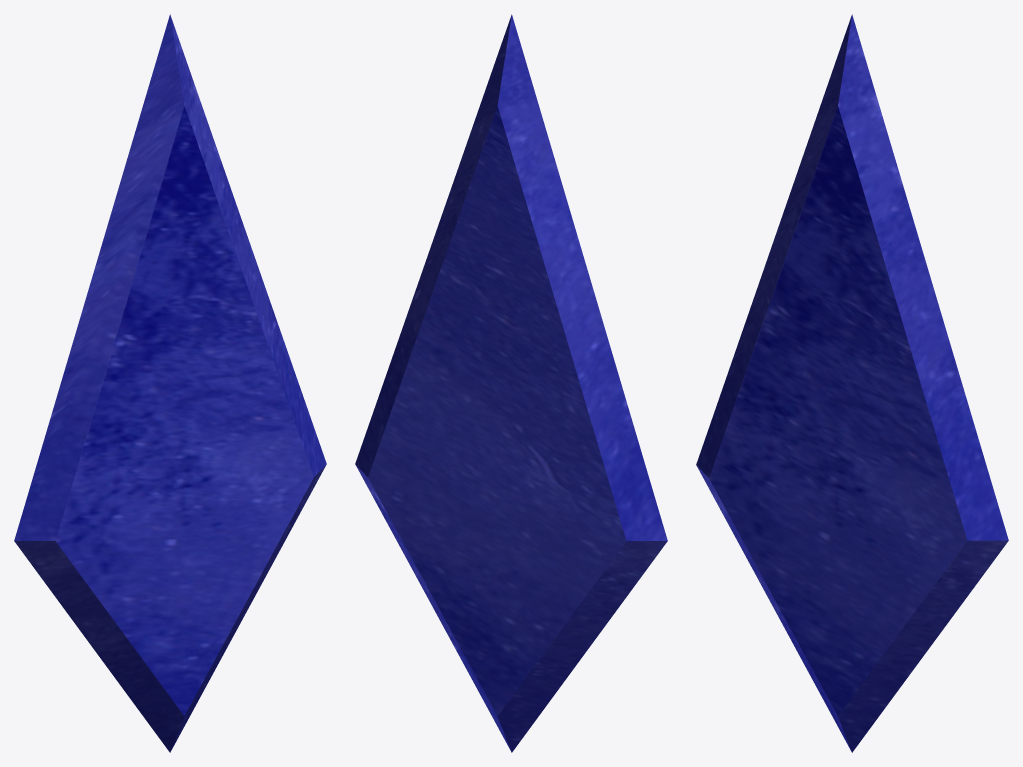
The model's file is Marker.dae.
3 views of the same model, side by side, from view 1: azimuth 30°, elevation 25°; view 2: azimuth 150°, elevation 25°; view 3: azimuth 330°, elevation 25° (orthographic).
Visible parts, largest first — view 1: blueprintIconFinal_RoadKillOut; view 2: blueprintIconFinal_RoadKillOut; view 3: blueprintIconFinal_RoadKillOut.
Part boxes in pixels (bbox=[...]): blueprintIconFinal_RoadKillOut: bbox=[14, 14, 326, 752]; blueprintIconFinal_RoadKillOut: bbox=[355, 14, 667, 752]; blueprintIconFinal_RoadKillOut: bbox=[696, 14, 1008, 752].
Size of the model in its own units: 0.7476 by 1.69 by 0.1178.
1 material, 1 textured.
